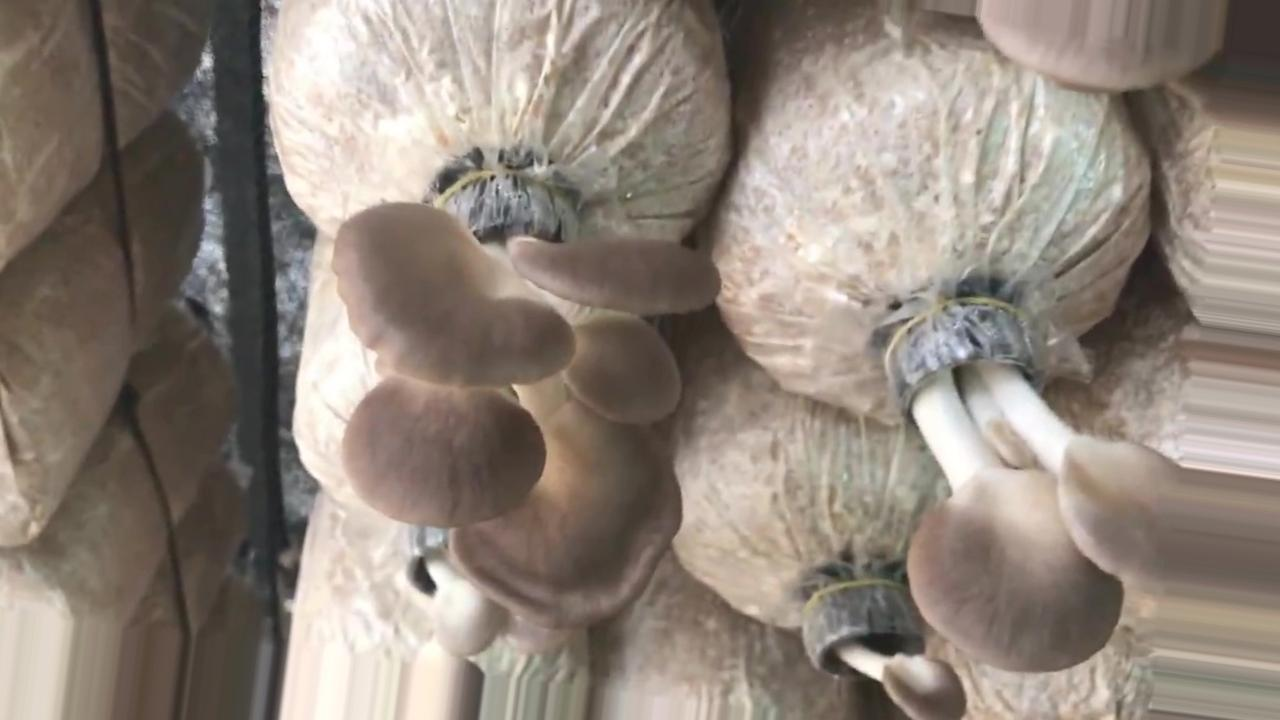nam: (334, 169, 718, 624), (882, 299, 1279, 672), (803, 573, 963, 720), (980, 2, 1221, 92), (401, 524, 508, 654)
